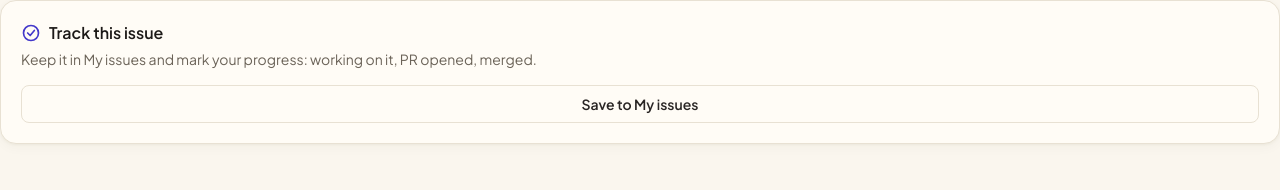
TrackIssue › shows the error when saving fails, and stays unsaved
This screenshot has width=1280, height=190.
Step 1. Click the button "Save to My issues" → x=640, y=104, box [21, 85, 1259, 123]
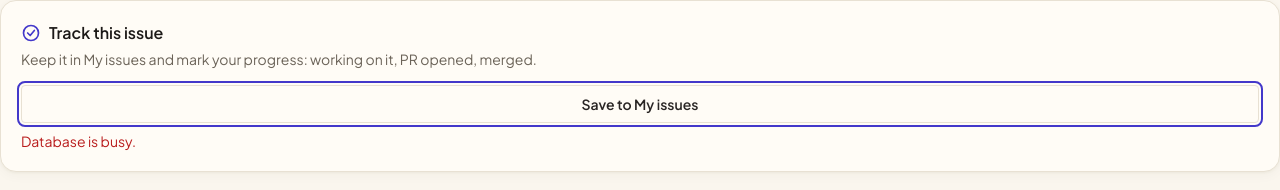
Now the message reads "Database is busy.", box [21, 132, 136, 150]
